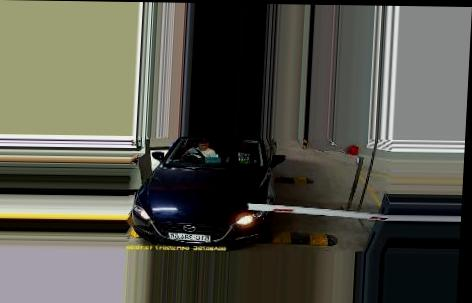License_Plate: (169, 233, 212, 242)
